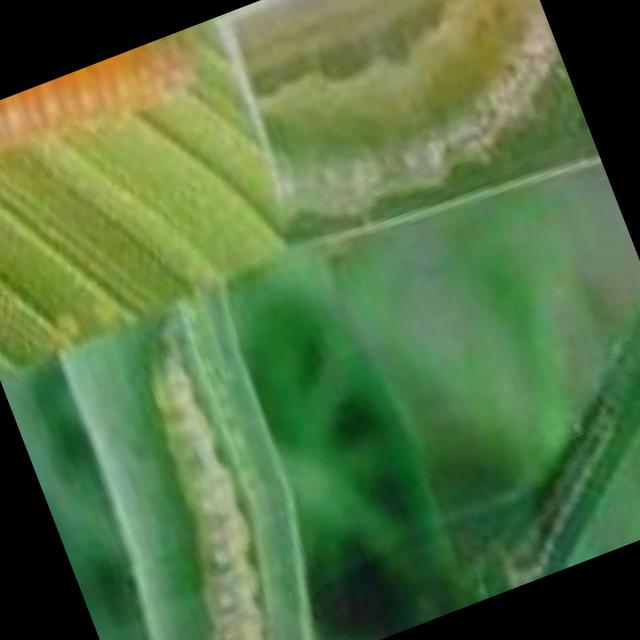leaf-folder: (208, 0, 591, 247), (65, 308, 330, 640), (428, 358, 640, 597), (0, 23, 234, 226)
